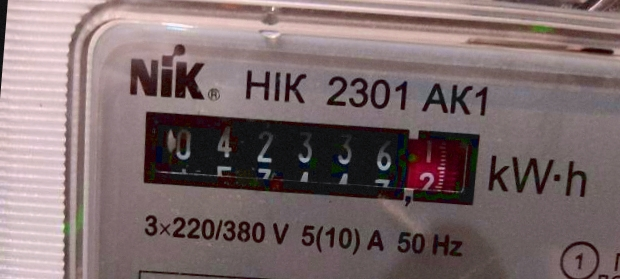0: (172, 125, 195, 161)
1: (420, 135, 435, 165)
2: (253, 127, 276, 165), (415, 169, 436, 191)
3: (294, 126, 316, 166), (332, 129, 355, 167)
4: (213, 121, 235, 159)
6: (371, 135, 395, 172)
screen: (131, 97, 490, 217)
